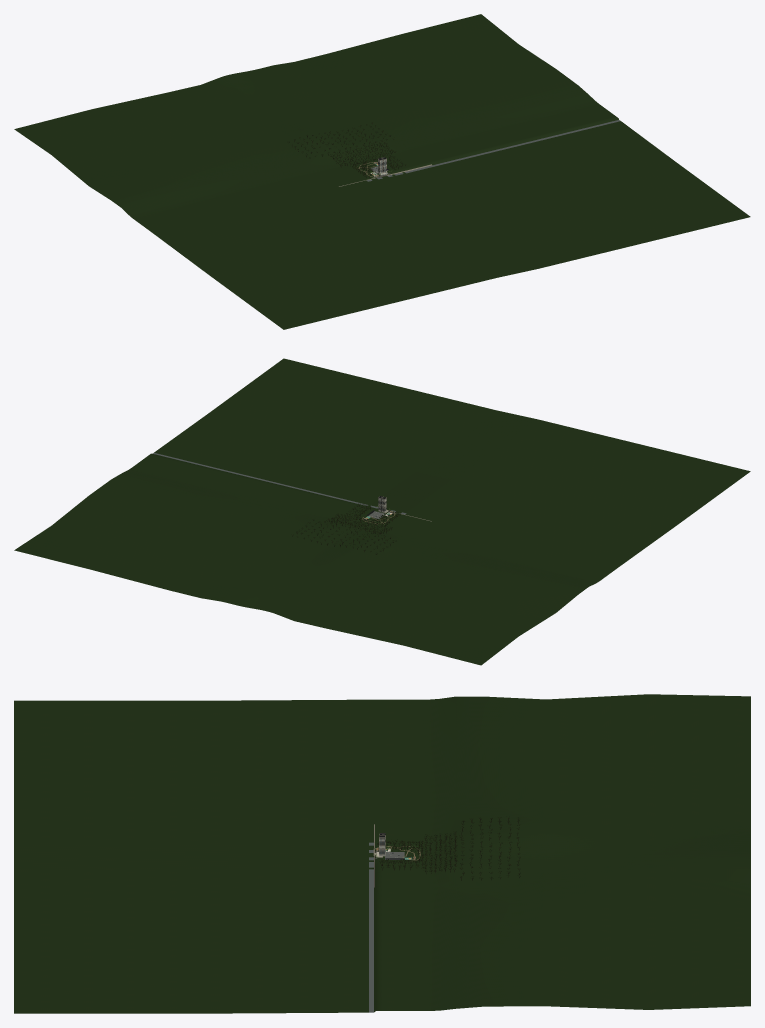
File: exterior.glb
3 renders of one model, top to bottom at view 1: azimuth 30°, elevation 25°; view 2: azimuth 150°, elevation 25°; view 3: azimuth 270°, elevation 25°, orthographic. The views are drawn at different scales.
Parts seen in each view (by area): view 1: B_EXT_GROUND_grass, B_EXT_FOLIAGE_CC0, B_EXT_ROAD_asphalt; view 2: B_EXT_GROUND_grass, B_EXT_FOLIAGE_CC0; view 3: B_EXT_GROUND_grass, B_EXT_FOLIAGE_CC0, B_EXT_ROAD_asphalt, B_EXT_WOOD_bark.
Part boxes in pixels (x1=…): B_EXT_GROUND_grass: x1=14, y1=14, x2=750, y2=329; B_EXT_FOLIAGE_CC0: x1=287, y1=122, x2=405, y2=176; B_EXT_ROAD_asphalt: x1=366, y1=120, x2=620, y2=181; B_EXT_GROUND_grass: x1=14, y1=358, x2=750, y2=665; B_EXT_FOLIAGE_CC0: x1=291, y1=503, x2=400, y2=554; B_EXT_GROUND_grass: x1=14, y1=694, x2=750, y2=1013; B_EXT_FOLIAGE_CC0: x1=377, y1=816, x2=520, y2=878; B_EXT_ROAD_asphalt: x1=369, y1=842, x2=373, y2=1012; B_EXT_WOOD_bark: x1=375, y1=818, x2=519, y2=880.
Bounding box in the file's own units: 1800 × 62.58 × 1800.
Materials: 34 (19 with a texture image).
